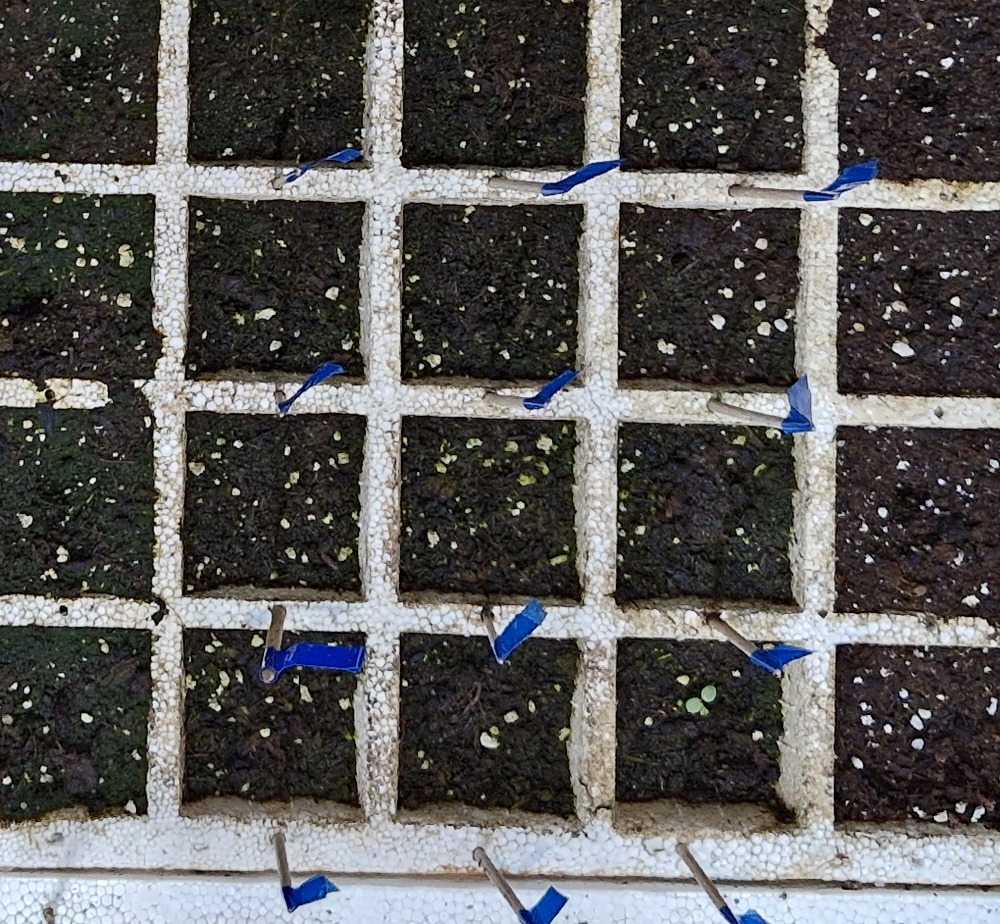Folha: (701, 685, 716, 702), (685, 697, 702, 712)
Germinacao: (686, 685, 716, 714)
